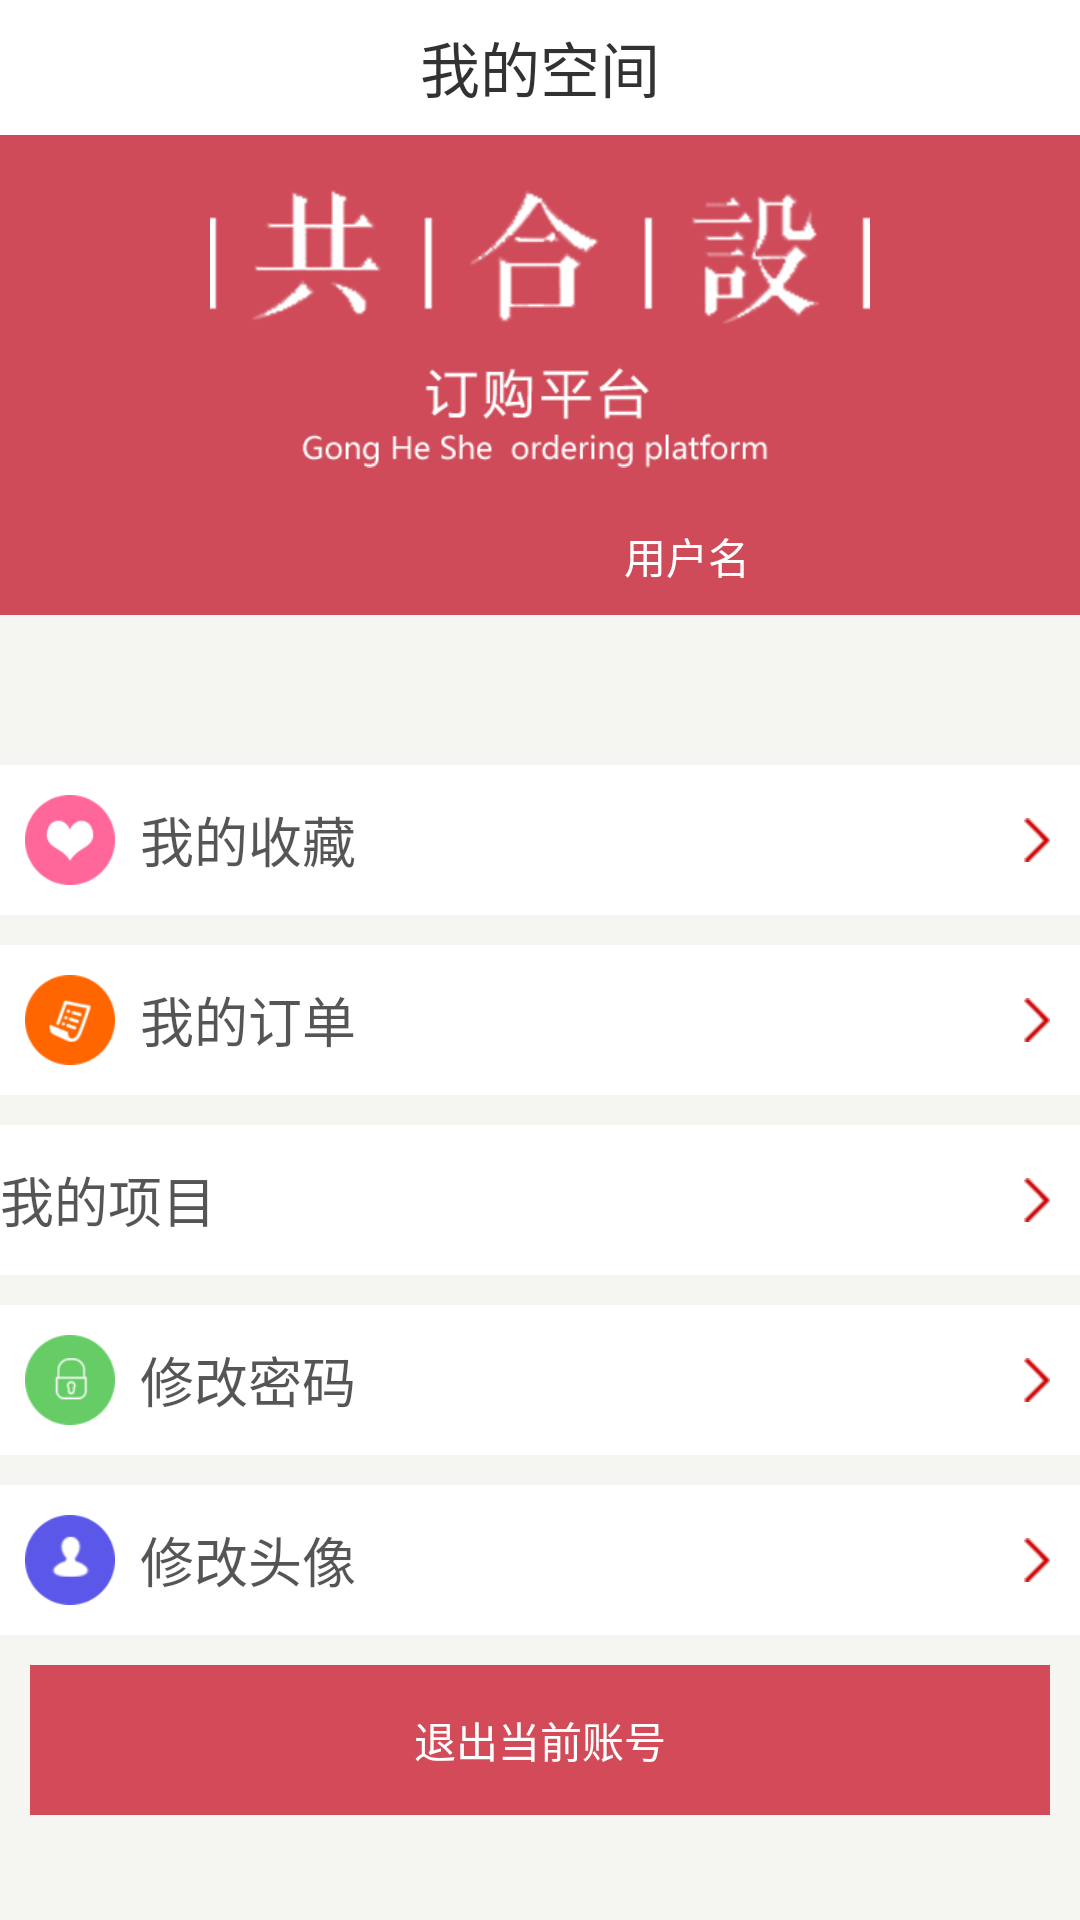

Screen size 1080px x 1920px. Icon name, then its center in pixels as (x=x, y=y):
change: (x=70, y=1560)
change psd: (x=70, y=1380)
collect: (x=70, y=840)
order: (x=70, y=1020)
right: (x=1037, y=840), (x=1037, y=1020), (x=1037, y=1200), (x=1037, y=1380), (x=1037, y=1560)
